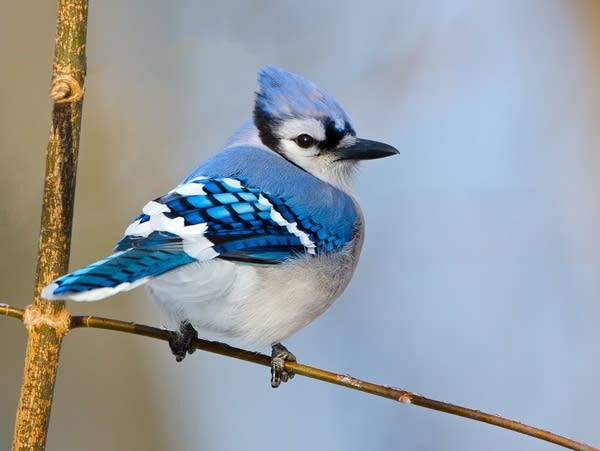bird: (99, 79, 368, 330)
